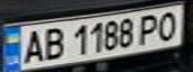1: (66, 21, 90, 56), (87, 19, 106, 53)
8: (115, 15, 139, 47), (103, 17, 124, 51)
A: (18, 27, 48, 65)
B: (36, 25, 69, 61)
O: (151, 8, 184, 42)
P: (133, 11, 163, 45)
